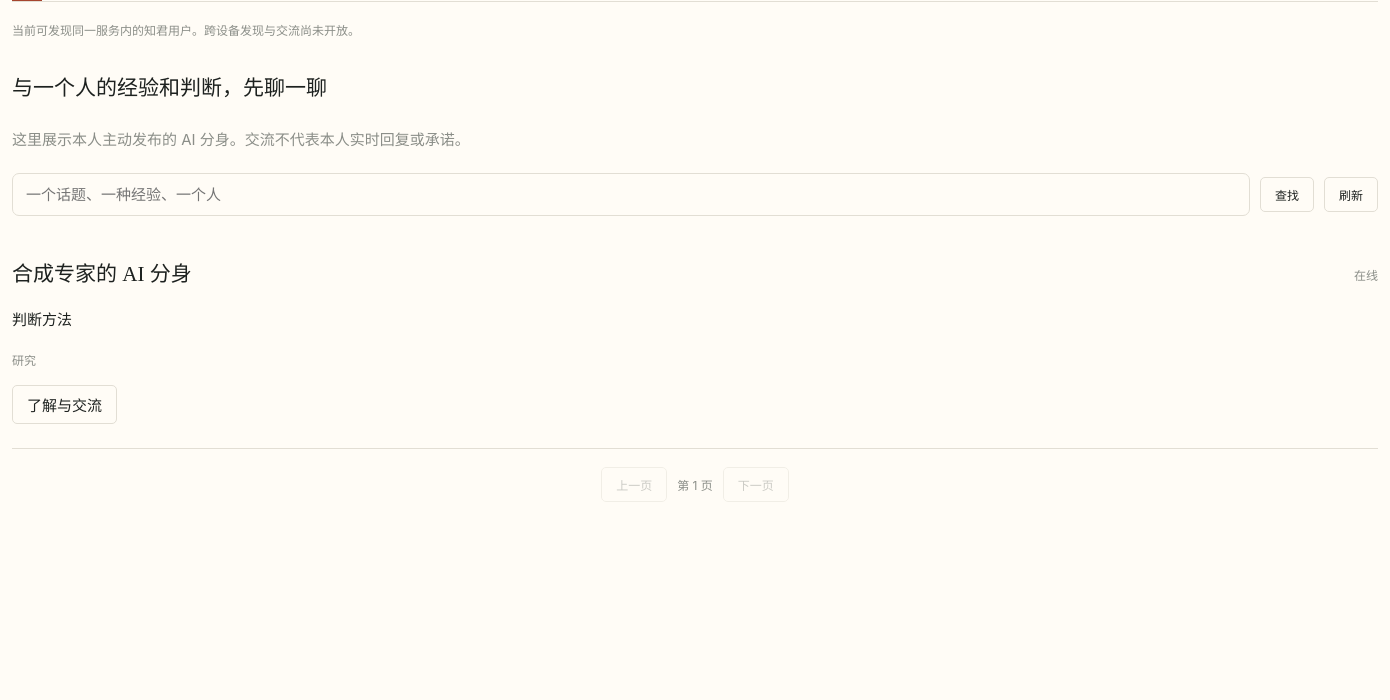
Test case: a lost request reads server state without resending and keeps the draft
The width and height of the screenshot is (1390, 700).
Step 1. Click the button "了解与交流" → [64, 404], box [12, 385, 117, 424]
(page scrolled)
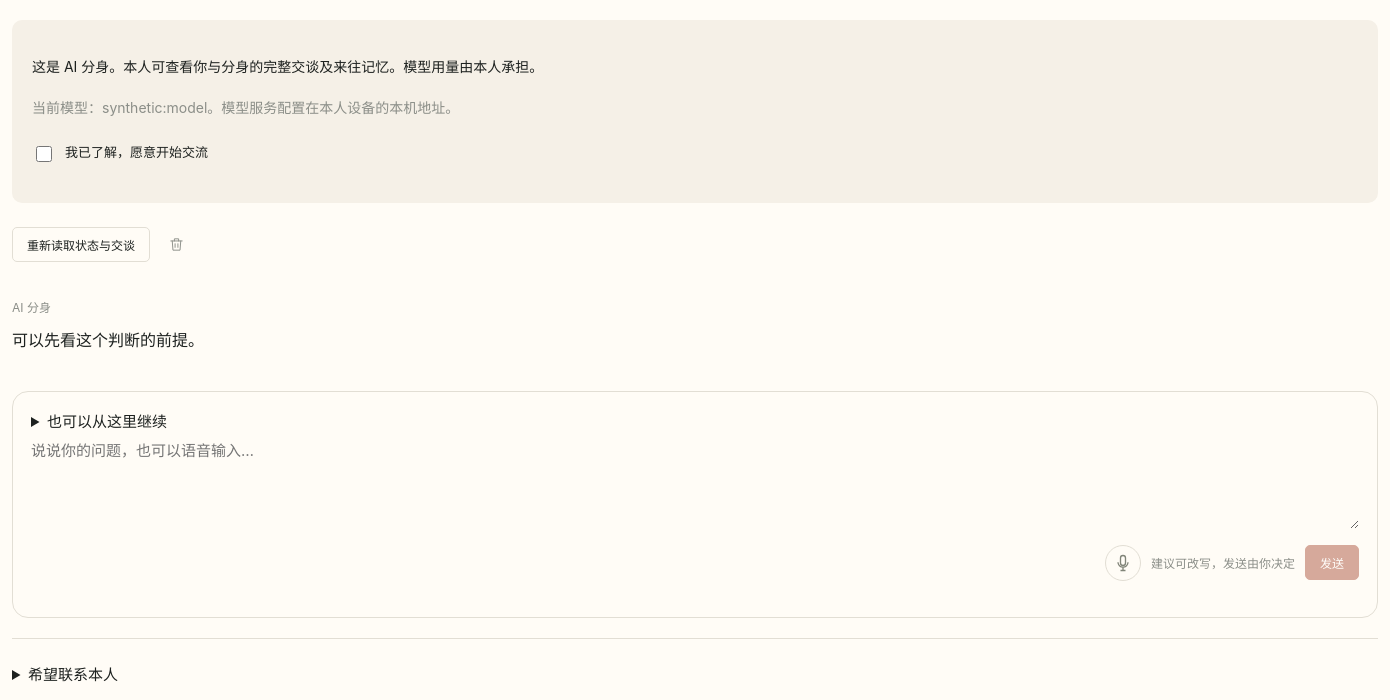
Expected: the text box named "对分身说的话" is shown
Step 2. Type "等结果" into the text box named "对分身说的话" → [695, 480], box [31, 431, 1359, 529]
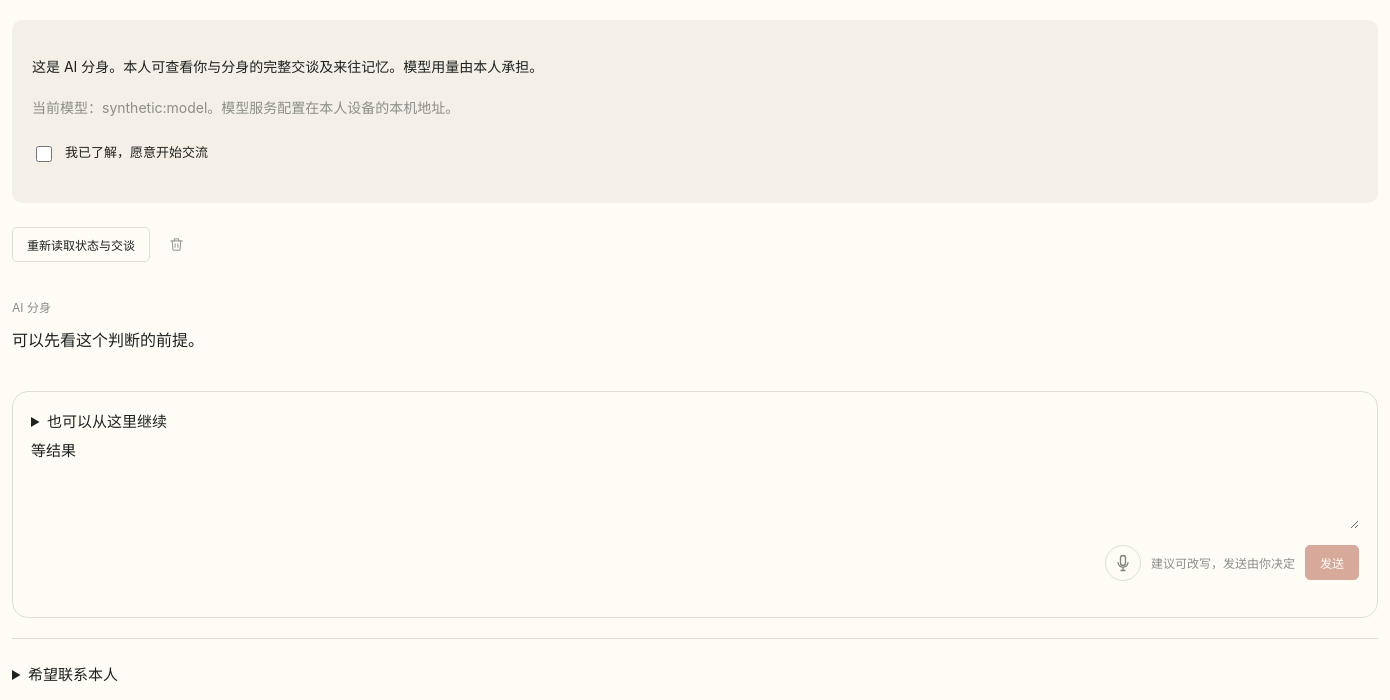
Step 3. Click the checkbox labelled "我已了解，愿意开始交流" → [44, 154], box [36, 146, 52, 162]
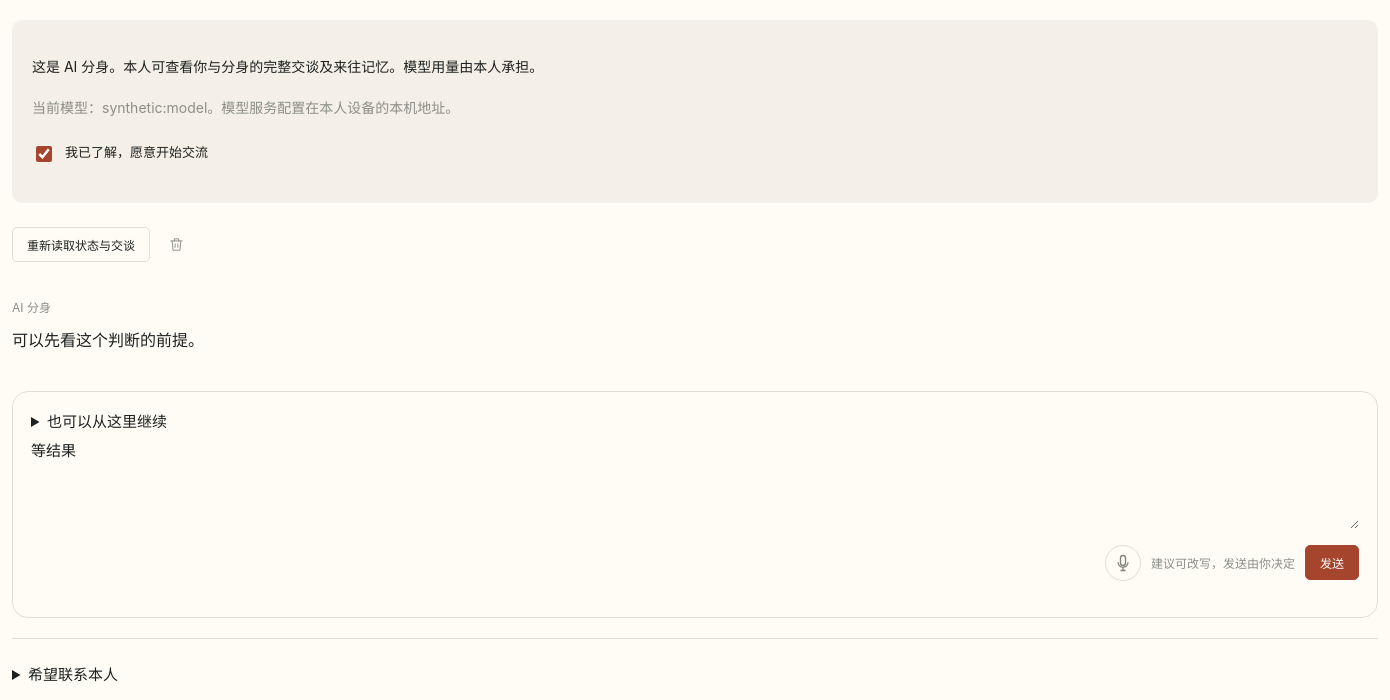
Step 4. Click the button "发送" → [1332, 563], box [1305, 545, 1359, 580]
(page scrolled)
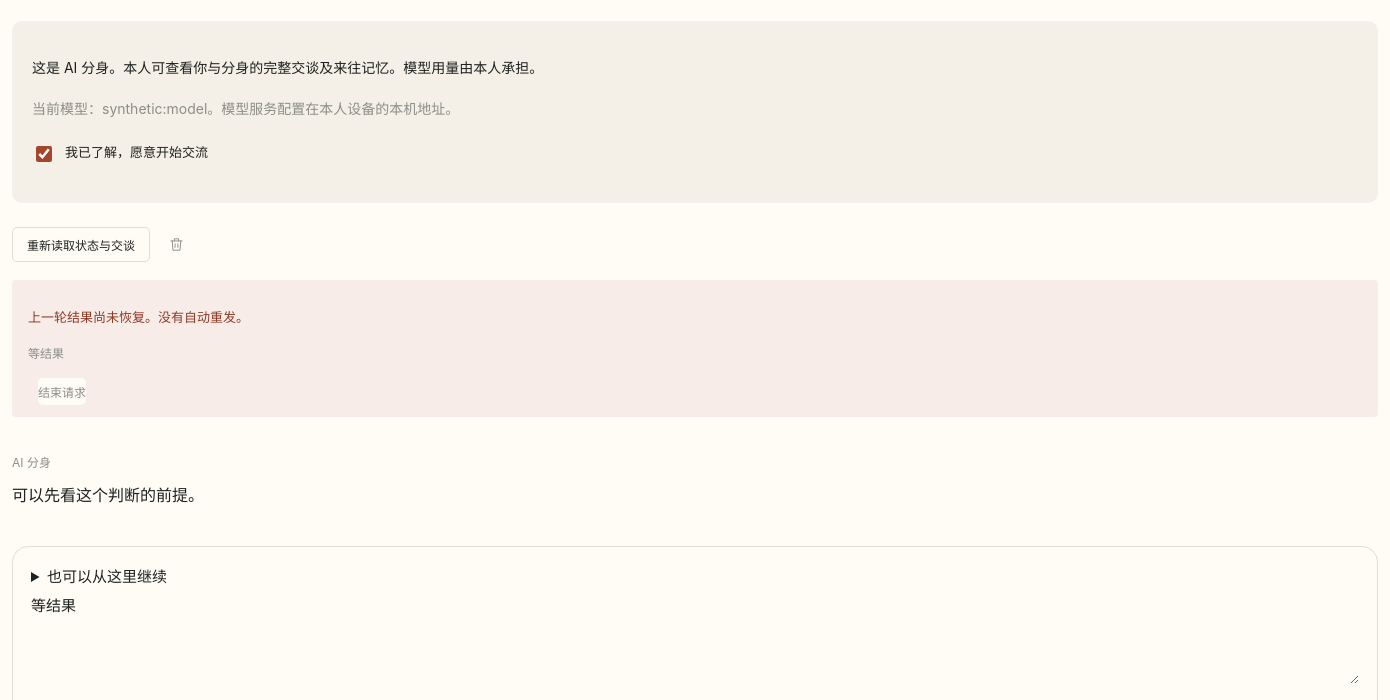
Expected: the text "上一轮结果尚未恢复。没有自动重发。" is shown, [28, 309, 249, 325]
